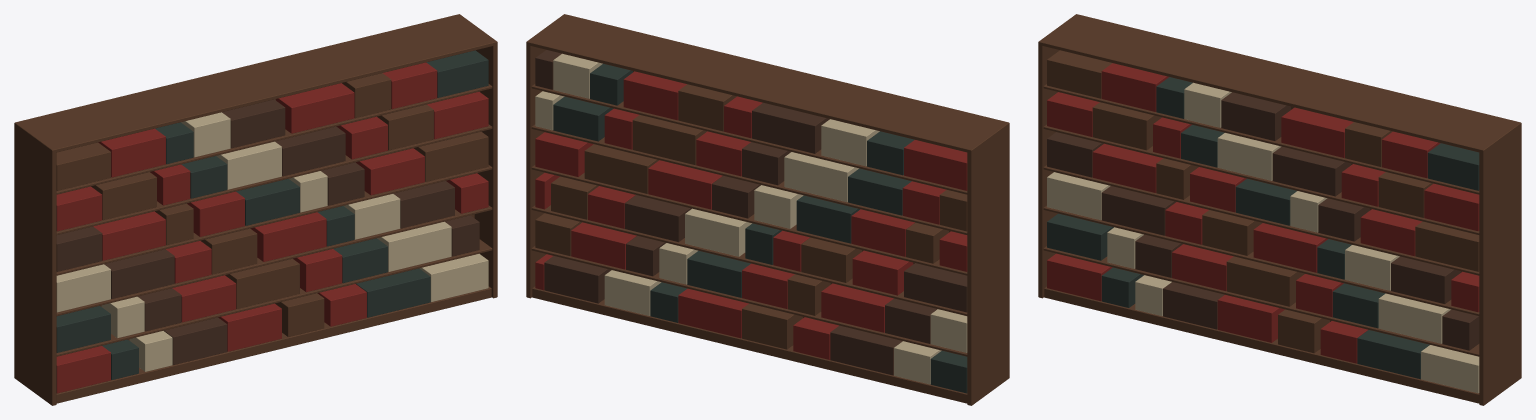
File: prop_library_stack_w400.glb
The picture shows the model from 3 angles, left to right: view 1: azimuth 30°, elevation 25°; view 2: azimuth 150°, elevation 25°; view 3: azimuth 330°, elevation 25°; orthographic projection.
Visible parts, largest first — view 1: Stack; view 2: Stack; view 3: Stack.
Boxes of the visible parts, x1,y1,x2,y2 form: Stack: (14,14,497,405); Stack: (526,14,1009,405); Stack: (1038,14,1521,405).
Size of what is drawn, in the model's own units: 3.99 by 2.19 by 0.59.
